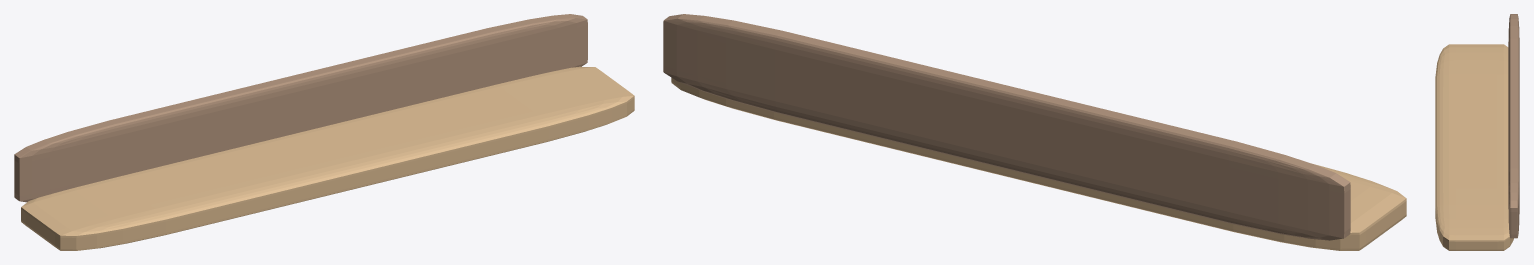
File: wall-shelf.glb
The picture shows the model from 3 angles, left to right: view 1: azimuth 30°, elevation 25°; view 2: azimuth 150°, elevation 25°; view 3: azimuth 270°, elevation 25°; orthographic projection. The views are drawn at different scales.
Parts seen in each view (by area): view 1: shelf, lip; view 2: lip, shelf; view 3: shelf, lip.
Boxes of the visible parts, bbox=[...] form: shelf: bbox=[21, 66, 634, 250]; lip: bbox=[14, 14, 587, 202]; lip: bbox=[663, 14, 1350, 240]; shelf: bbox=[671, 77, 1406, 250]; shelf: bbox=[1435, 44, 1513, 250]; lip: bbox=[1508, 14, 1519, 238].
Bounding box in the file's own units: 1.86 × 0.23 × 0.3375.
